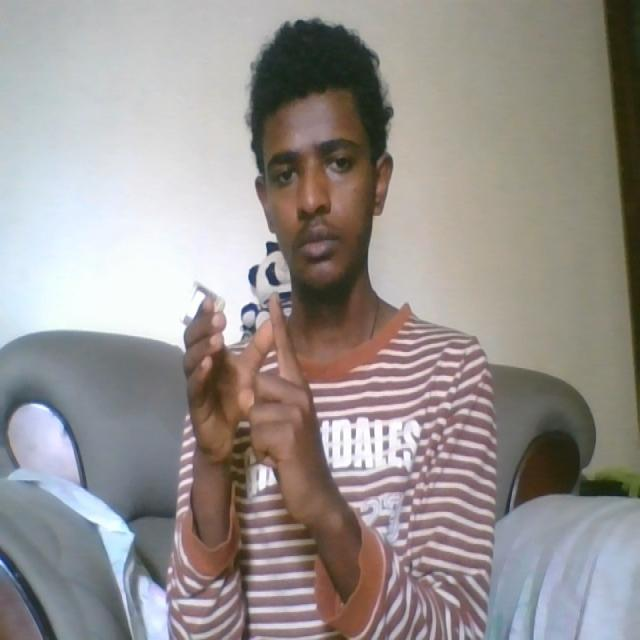melqeq: (180, 286, 331, 522)
